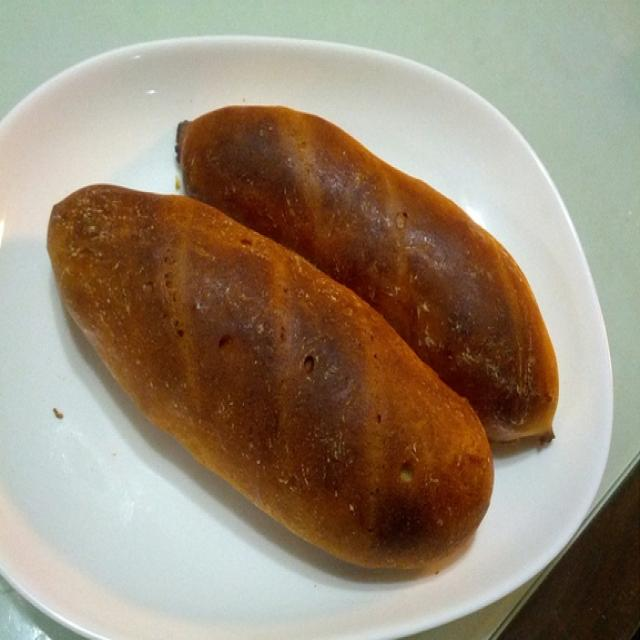面包点心: (10, 54, 606, 620)
